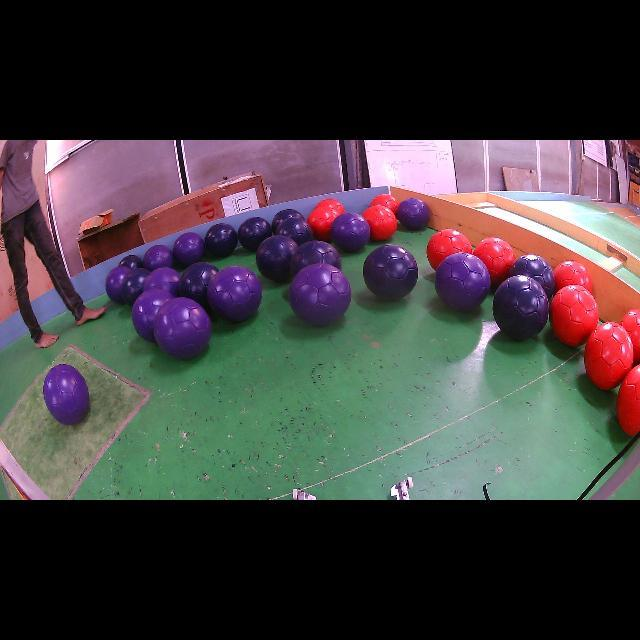B: (492, 275, 549, 340), (362, 244, 418, 300), (508, 254, 555, 298), (256, 235, 298, 282), (290, 240, 341, 276), (178, 262, 219, 306), (275, 216, 314, 245), (205, 224, 238, 258), (238, 218, 272, 251), (121, 268, 150, 306), (271, 209, 304, 234), (119, 255, 142, 269)
P: (289, 264, 351, 325), (154, 298, 211, 359), (435, 252, 491, 311), (206, 266, 262, 321), (42, 364, 90, 425), (132, 289, 174, 342), (330, 212, 370, 252), (142, 268, 180, 298), (172, 232, 204, 266), (396, 198, 430, 230), (105, 266, 130, 304), (142, 245, 174, 271)
R: (584, 322, 634, 390), (550, 285, 599, 346), (474, 238, 516, 286), (426, 229, 472, 269), (616, 365, 640, 436), (308, 199, 345, 241), (362, 205, 398, 241), (554, 260, 592, 292), (620, 309, 640, 364), (370, 194, 400, 214)
